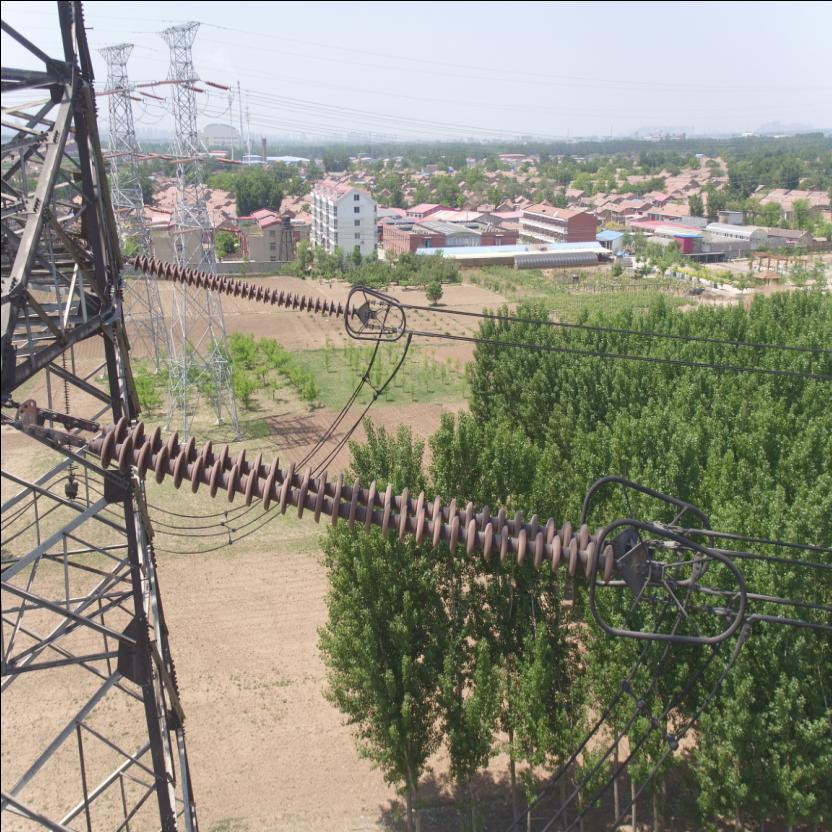insulator: (55, 404, 634, 584), (120, 240, 360, 320)
